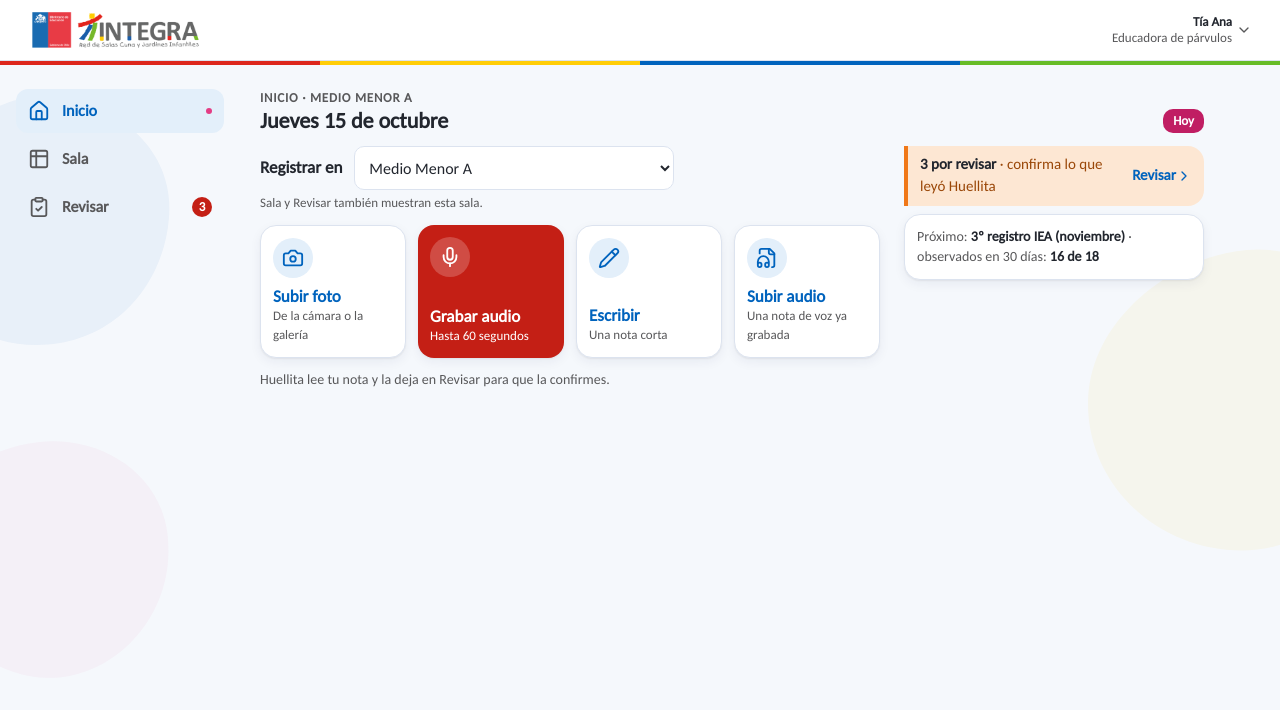
Test: Inicio › el aviso de pendientes lleva a Revisar
The image size is (1280, 710).
Click the button "3 por revisar · confirma lo que leyó Huellita Revisar" at (1054, 176), box [904,146,1204,206]
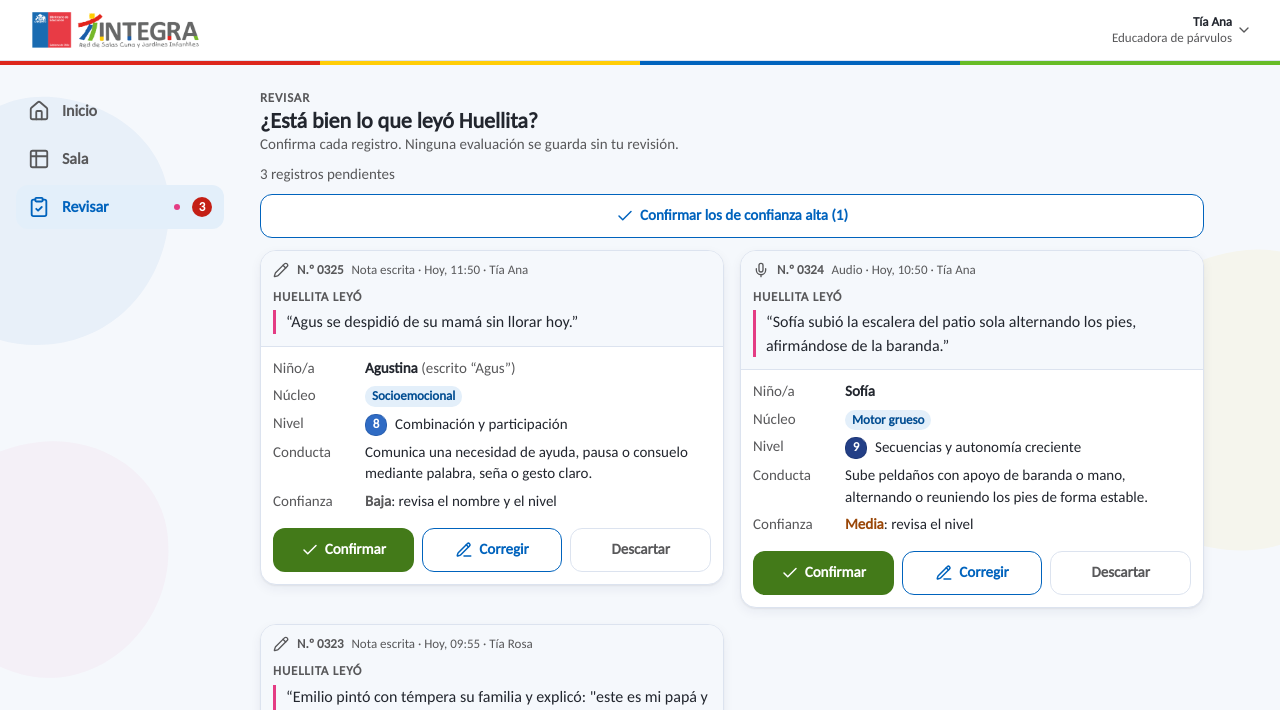
Check: the text "¿Está bien lo que leyó Huellita?" is shown, box [260,107,538,134]
